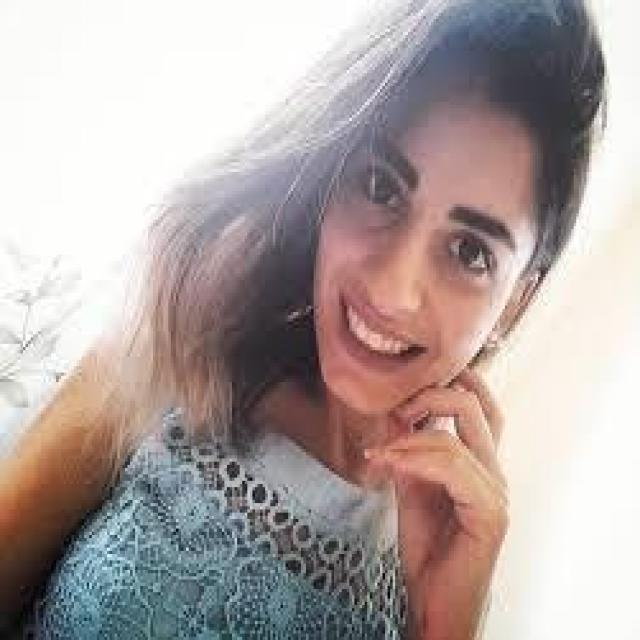person: (10, 0, 607, 637)
